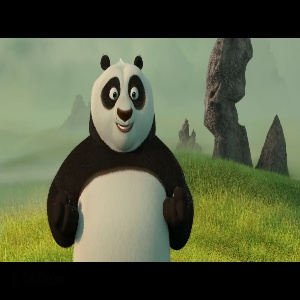po: (43, 53, 196, 262)
